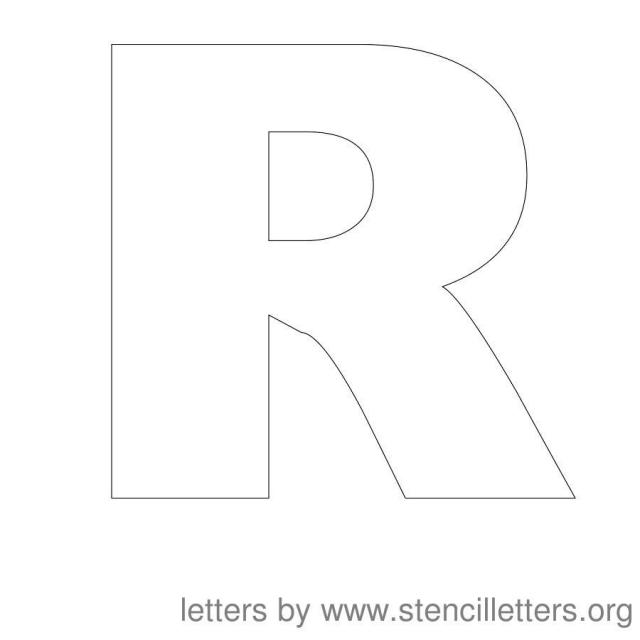R: (67, 21, 580, 548)
